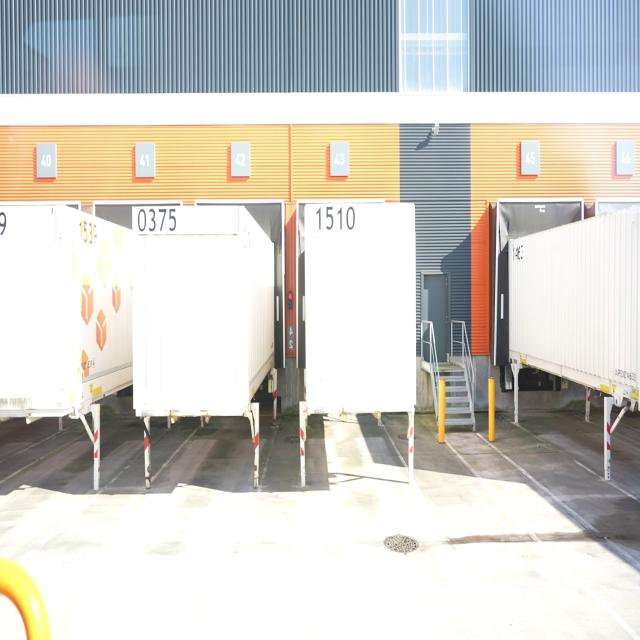Code: (134, 204, 180, 237), (314, 203, 361, 233)
